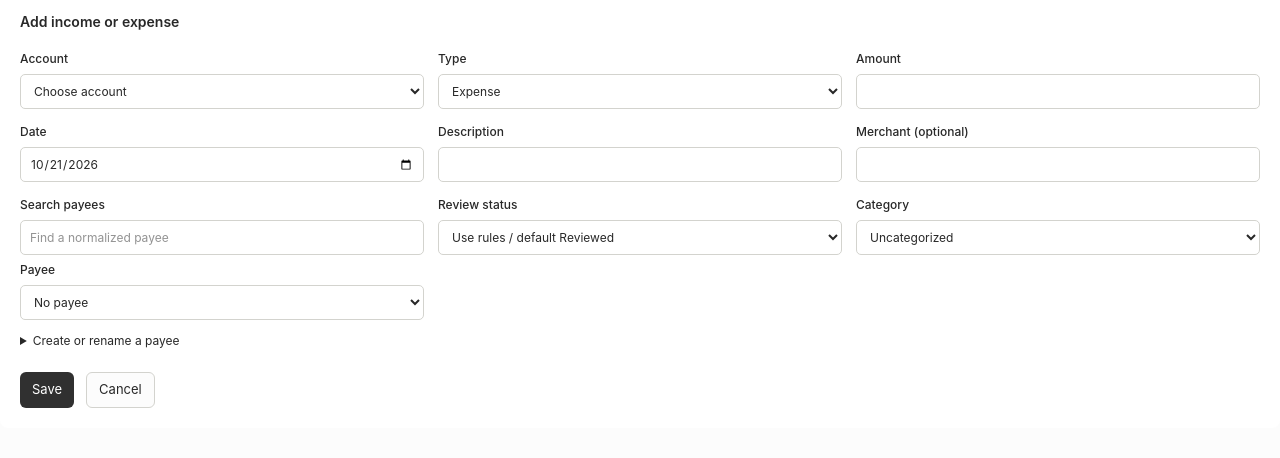
Test: submits income as an exact string and surfaces backend errors
Select "Checking (BRL)" in the dropdown labelled "Account" at [222, 92], box [20, 74, 424, 109]
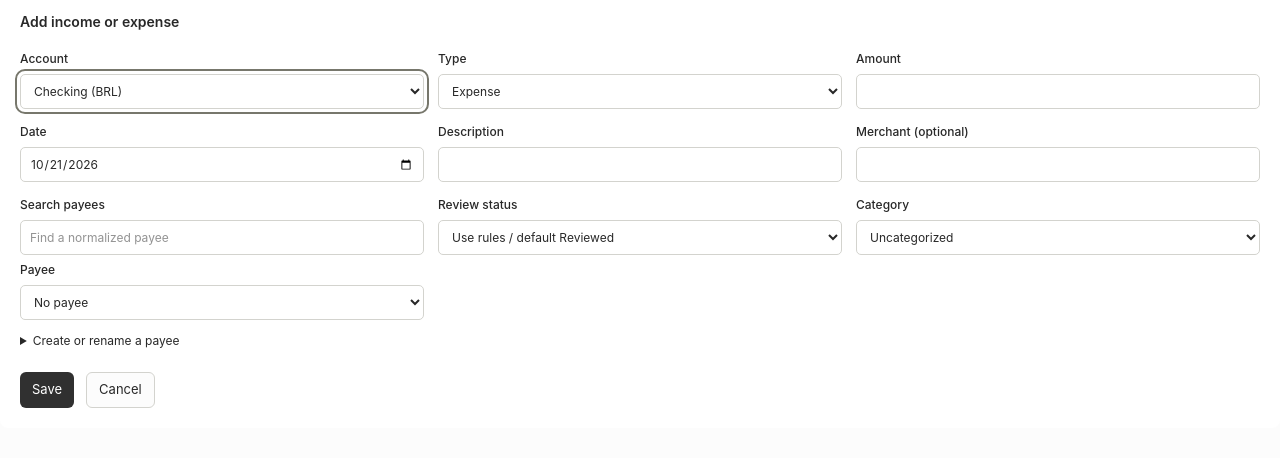
Select "Income" in the dropdown labelled "Type" at [640, 92], box [438, 74, 842, 109]
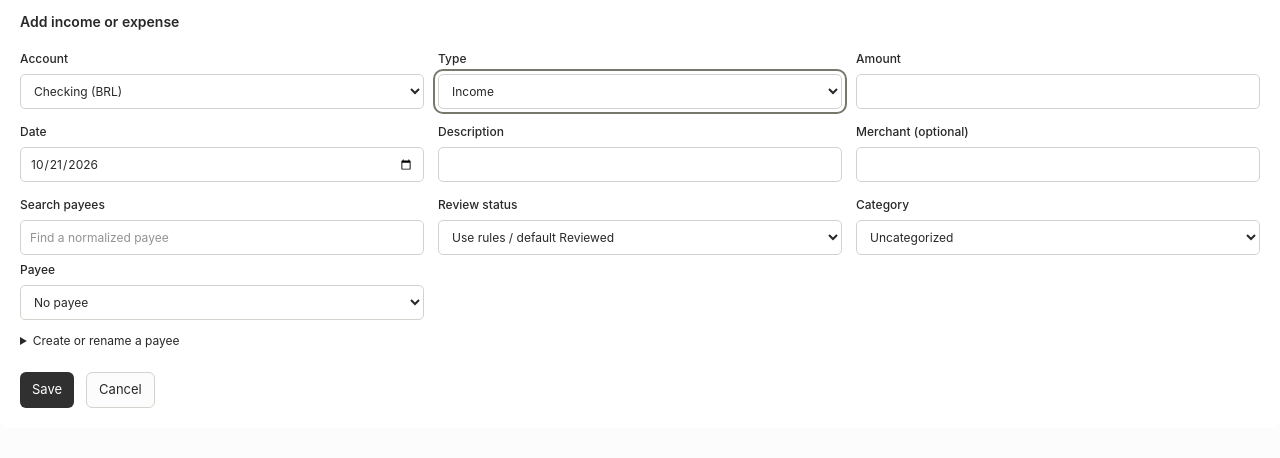
Type "1000.001" into the field labelled "Amount" at [1058, 92], box [856, 74, 1260, 109]
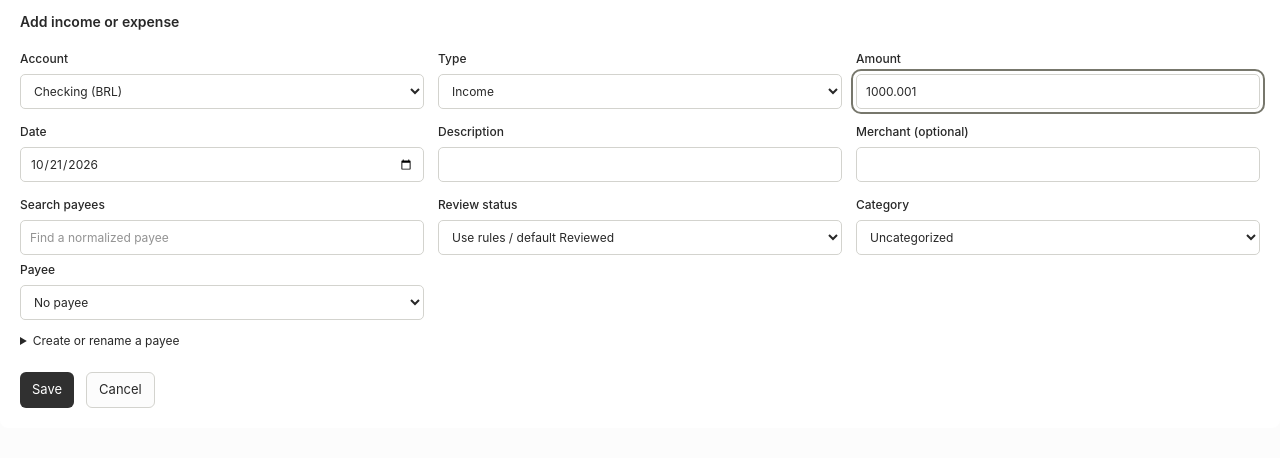
Type "Synthetic salary" into the field labelled "Description" at [640, 164], box [438, 147, 842, 182]
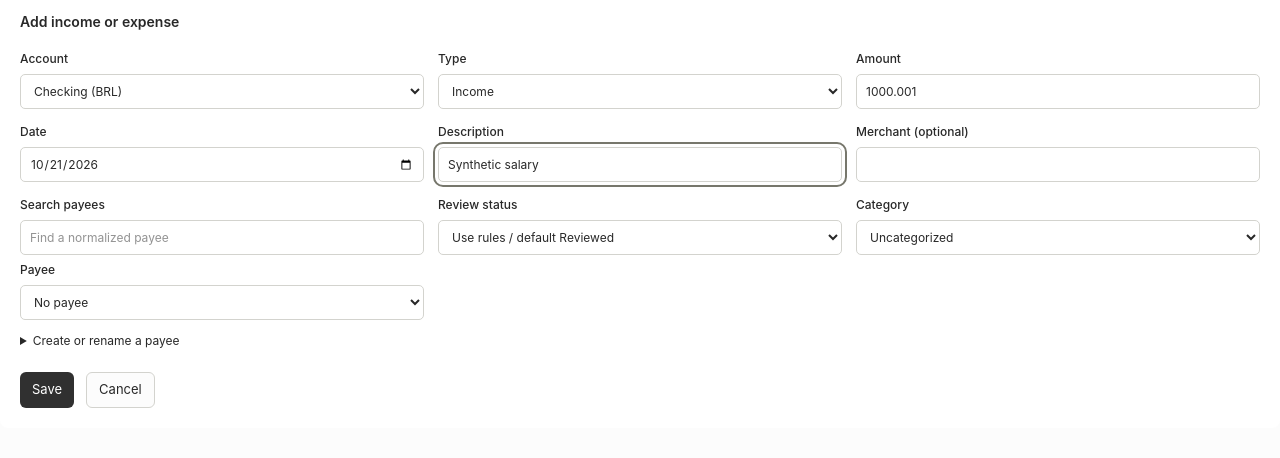
Click the button "Save" at [47, 390], box [20, 372, 74, 408]
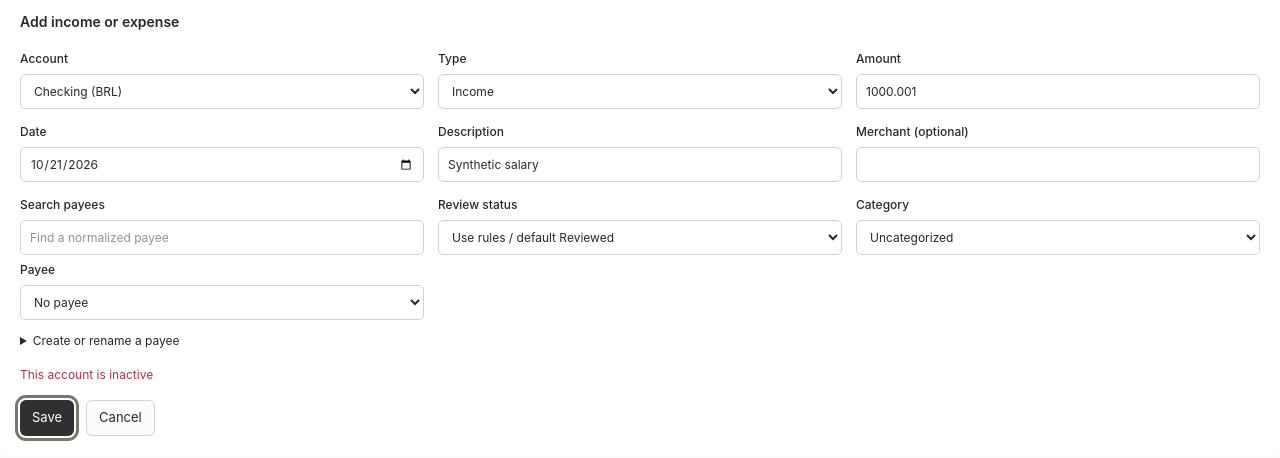
Now the message shows "inactive", box [20, 367, 153, 382]
